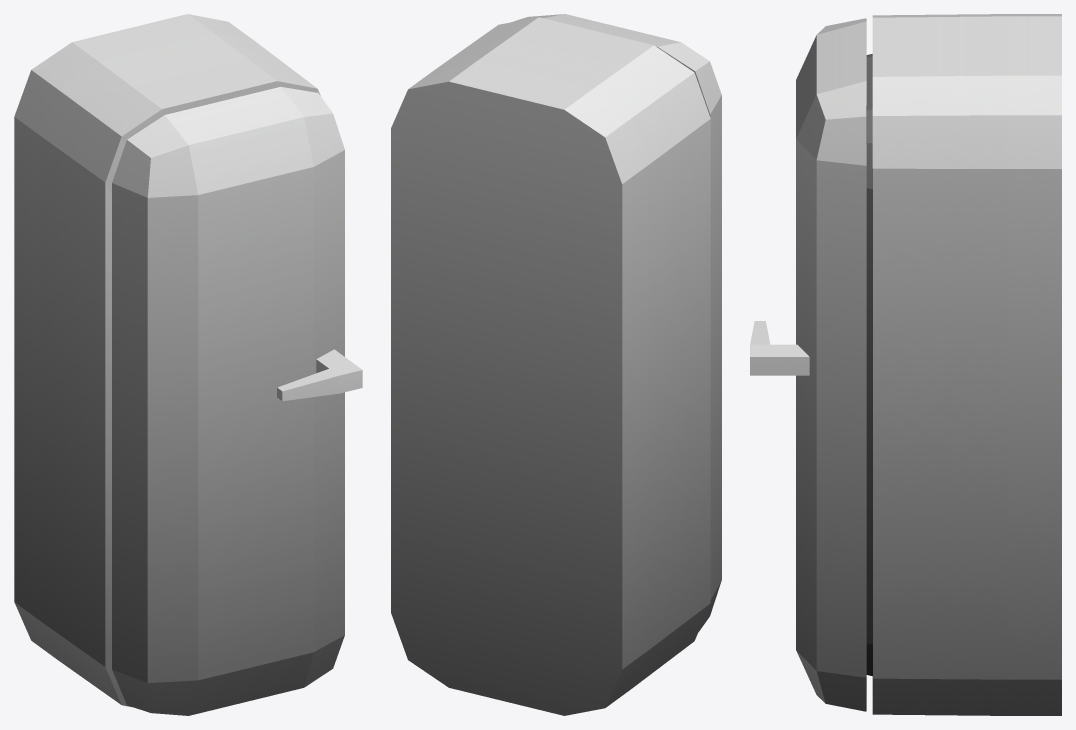
Rendered from Fridge.fbx.
3 renders of one model, left to right at view 1: azimuth 30°, elevation 25°; view 2: azimuth 150°, elevation 25°; view 3: azimuth 270°, elevation 25°, orthographic. The views are drawn at different scales.
Parts seen in each view (by area): view 1: Fridge; view 2: Fridge; view 3: Fridge.
Boxes of the visible parts, box(x1,y1,x2,y2) form: Fridge: box(14, 14, 362, 715); Fridge: box(391, 14, 721, 715); Fridge: box(750, 14, 1061, 715).
Bounding box in the file's own units: 0.707 × 1.77 × 0.7855.
